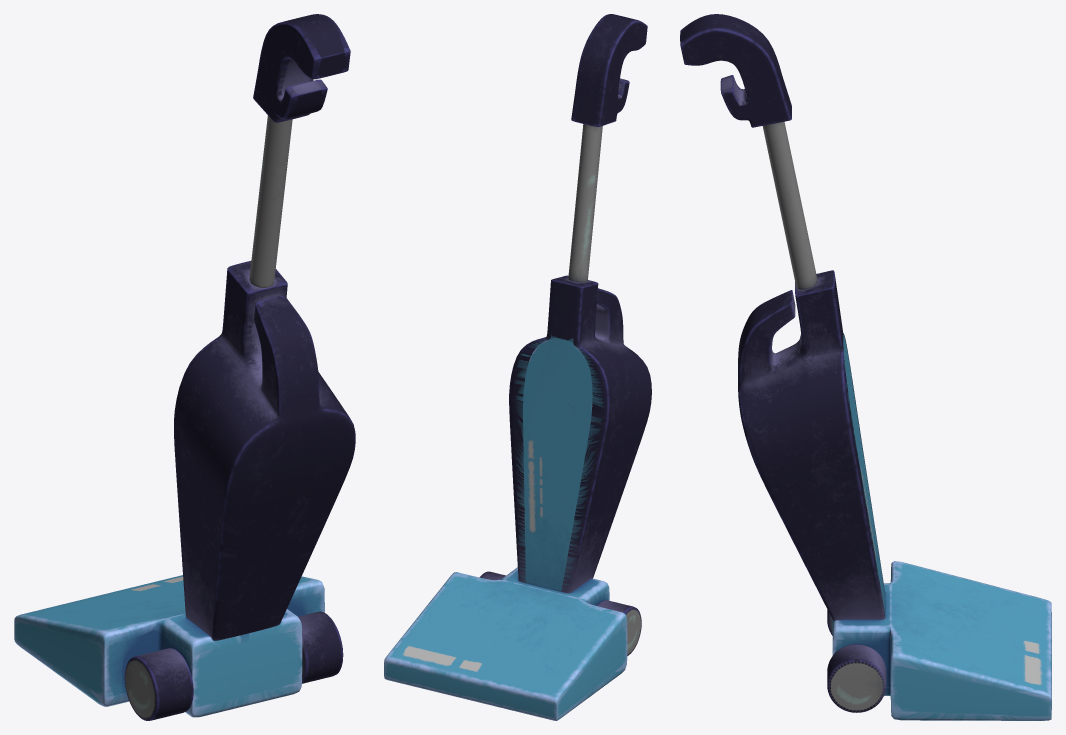
The model's file is VacuumCleaner_Textured.fbx.
3 renders of one model, left to right at view 1: azimuth 30°, elevation 25°; view 2: azimuth 150°, elevation 25°; view 3: azimuth 270°, elevation 25°, orthographic. The views are drawn at different scales.
Visible parts, largest first — view 1: vc_03, vc_01, vc_04, vc_02, vc_05; view 2: vc_03, vc_01, vc_04, vc_05, vc_02; view 3: vc_03, vc_01, vc_04, vc_05, vc_02.
Part boxes in pixels (x1,y1,x2,y2): vc_03: (174, 261, 355, 640); vc_01: (14, 575, 324, 717); vc_04: (253, 14, 350, 122); vc_02: (124, 611, 343, 720); vc_05: (249, 115, 292, 287); vc_03: (509, 275, 651, 593); vc_01: (384, 567, 627, 720); vc_04: (571, 14, 647, 126); vc_05: (568, 124, 602, 282); vc_02: (479, 571, 641, 655); vc_03: (738, 270, 885, 621); vc_01: (832, 561, 1051, 720); vc_04: (680, 14, 791, 127); vc_05: (762, 121, 817, 289); vc_02: (827, 609, 886, 712).
Bounding box in the file's own units: 0.8499 × 2.7 × 1.39.
1 material, 1 textured.
